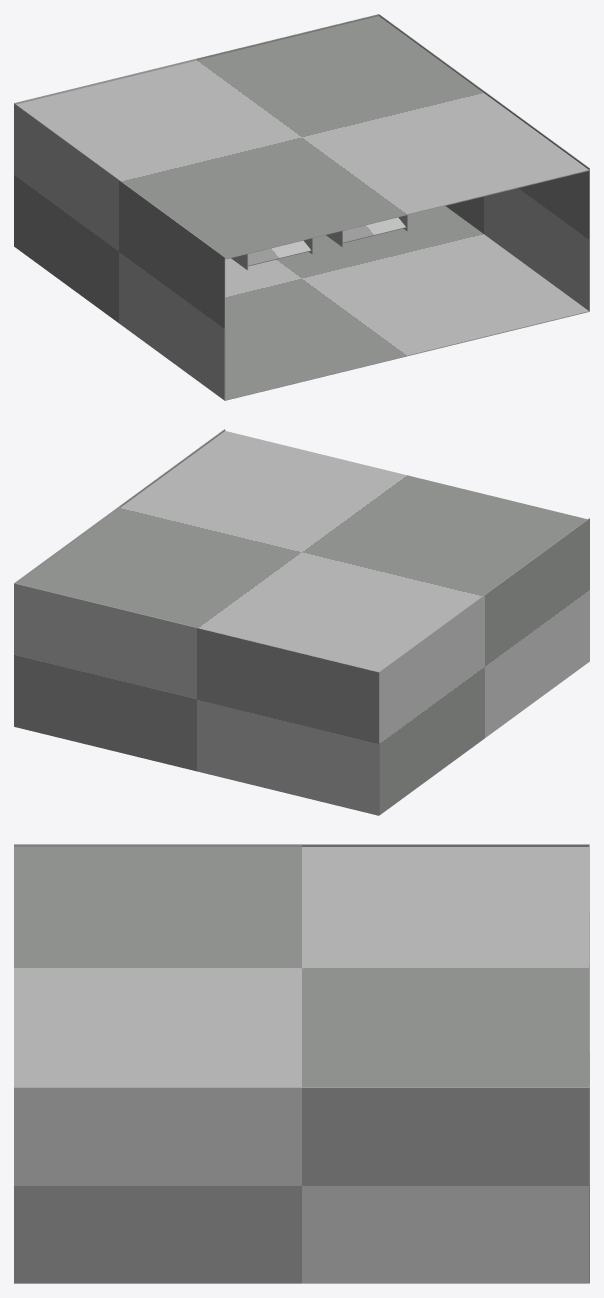
File: Level.glb
The picture shows the model from 3 angles, top to bottom: view 1: azimuth 30°, elevation 25°; view 2: azimuth 150°, elevation 25°; view 3: azimuth 270°, elevation 25°; orthographic projection. The views are drawn at different scales.
Visible parts, largest first — view 1: Wall (4), Wall, Wall (2), Wall (3), Side (×2), Wall (1); view 2: Wall (4), Wall (1), Wall (2), Wall (3); view 3: Wall (4), Wall (3), Wall (2).
Boxes of the visible parts, box(x1,y1,x2,y2) form: Wall (4): box(17, 16, 589, 259); Wall: box(225, 206, 589, 400); Wall (2): box(14, 103, 225, 400); Wall (3): box(379, 14, 589, 311); Side (×2): box(248, 217, 406, 266); Wall (1): box(14, 14, 378, 104); Wall (4): box(17, 431, 586, 671); Wall (1): box(14, 583, 378, 815); Wall (2): box(379, 518, 589, 815); Wall (3): box(14, 429, 225, 583); Wall (4): box(14, 847, 588, 1087); Wall (3): box(14, 1087, 589, 1283); Wall (2): box(14, 844, 588, 846).
Size of the model in its own units: 501 by 188 by 501.
3 materials, 2 textured.
